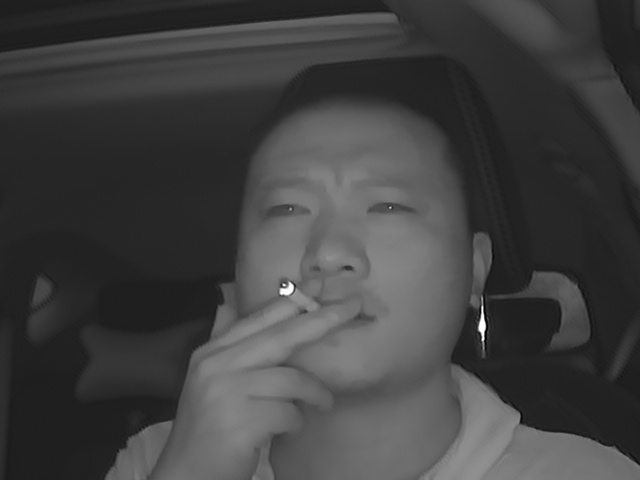hand: (198, 275, 361, 445)
